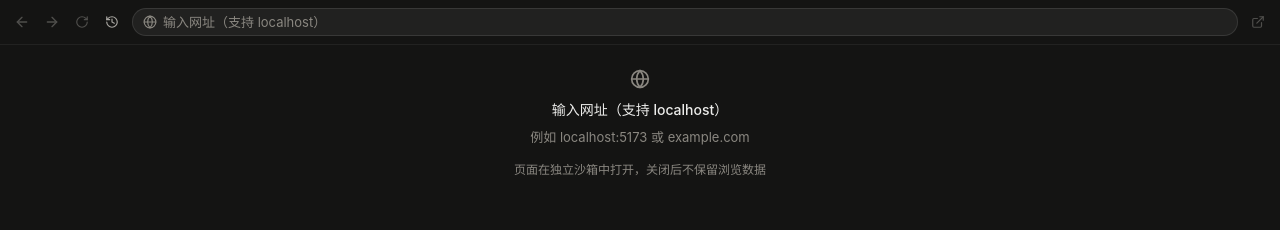
Test: BrowserPane › shows a refused address next to the bar
In the field with placeholder "输入网址（支持 localhost）": (695, 22) [163, 9, 1227, 35], type "javascript:alert(1)"
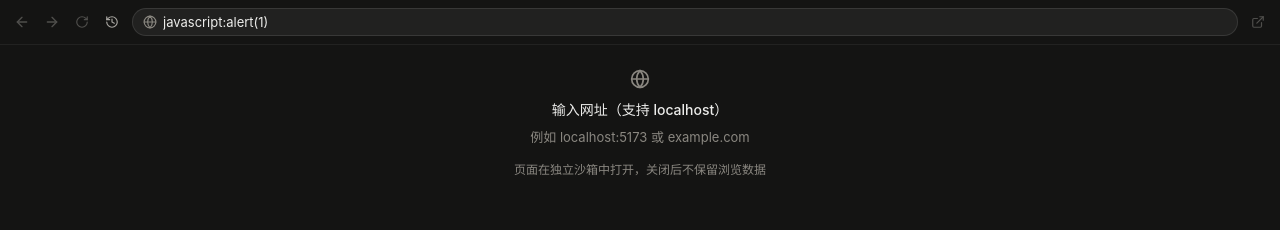
Submit the form with class "browser-address", box [132, 8, 1238, 36]
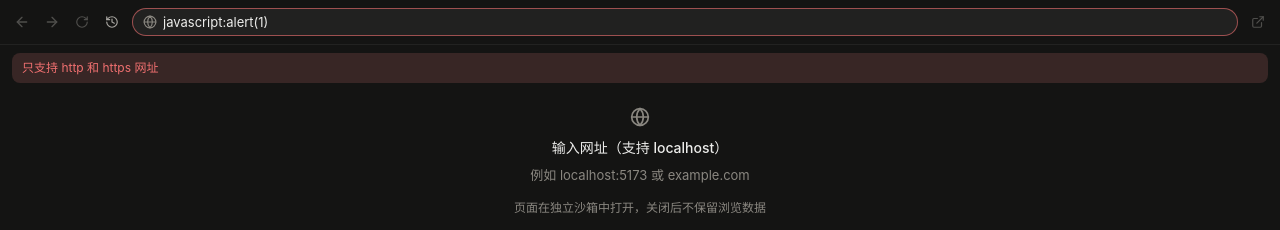
Expected: the message with class "browser-input-error" reads "只支持 http 和 https 网址", [22, 60, 158, 75]
